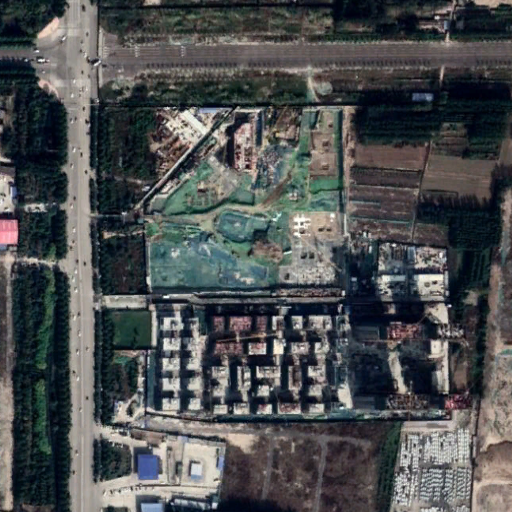cw: (148, 110, 344, 293)
